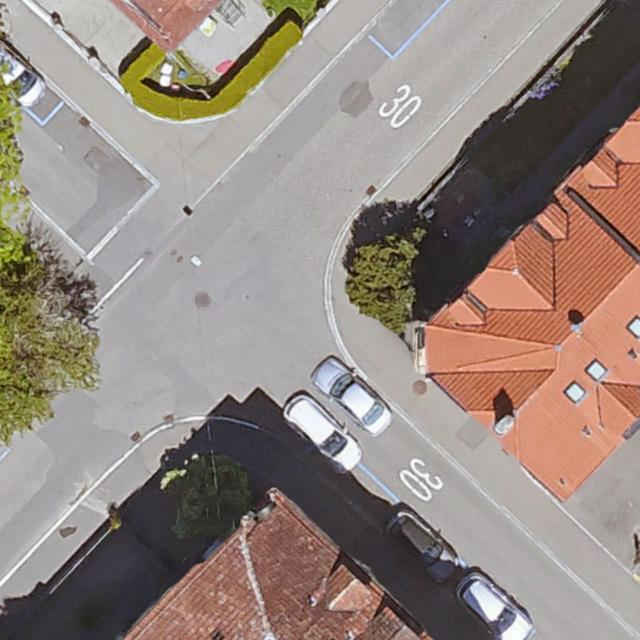tree: (0, 248, 97, 443), (349, 237, 421, 331), (175, 453, 252, 534)
